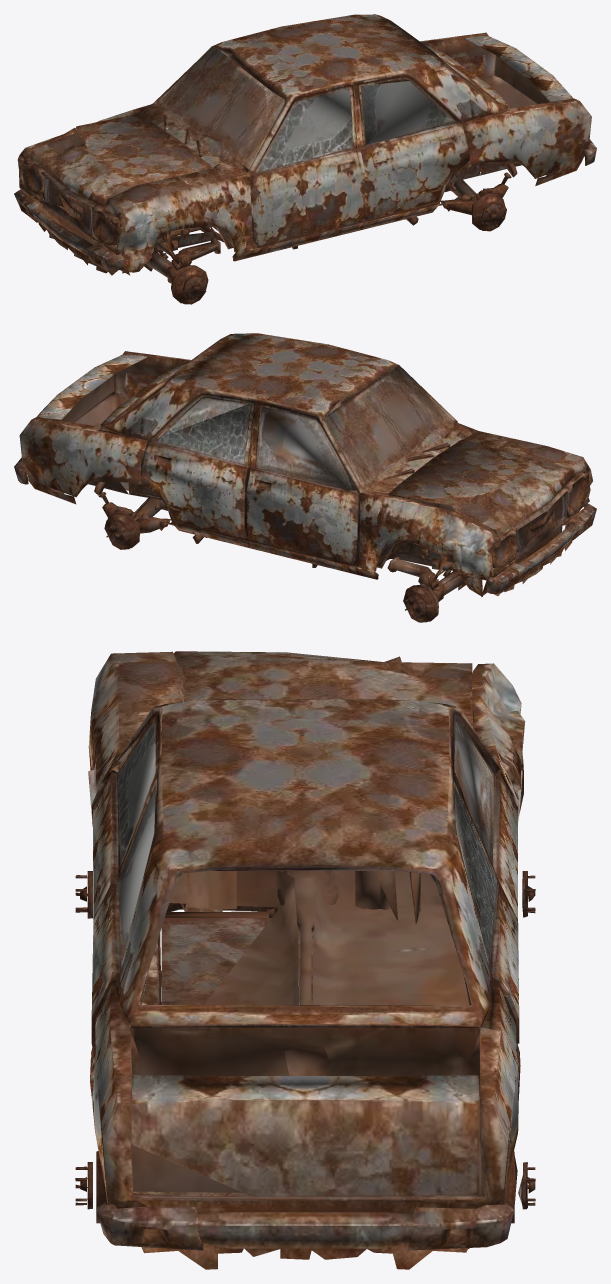
Rendered from car_wreck_rusty.glb.
3 views of the same model, one above another, from view 1: azimuth 30°, elevation 25°; view 2: azimuth 150°, elevation 25°; view 3: azimuth 270°, elevation 25° (orthographic). The views are drawn at different scales.
Visible parts, largest first — view 1: Meshy_AI_car_wreck_rusty_3d_20261028_texture; view 2: Meshy_AI_car_wreck_rusty_3d_20261028_texture; view 3: Meshy_AI_car_wreck_rusty_3d_20261028_texture.
Boxes of the visible parts, <box> form: Meshy_AI_car_wreck_rusty_3d_20261028_texture: <box>14,14,596,304</box>; Meshy_AI_car_wreck_rusty_3d_20261028_texture: <box>14,333,596,622</box>; Meshy_AI_car_wreck_rusty_3d_20261028_texture: <box>75,651,535,1269</box>.
Bounding box in the file's own units: 4.5 × 1.51 × 1.8.
Materials: 1 (1 with a texture image).
